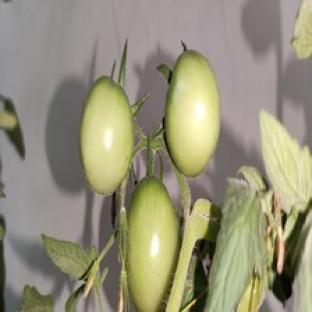Tomato: (127, 177, 179, 311), (165, 51, 220, 176), (80, 77, 133, 194)
